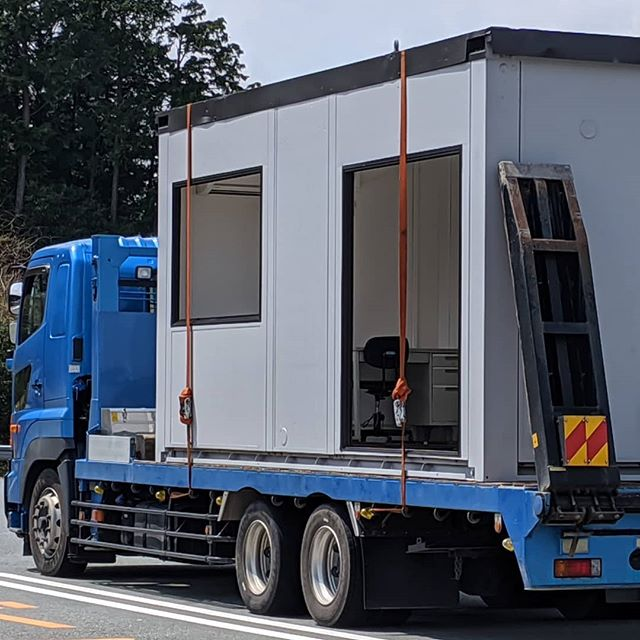tree: (1, 16, 238, 234)
truck: (22, 36, 640, 597)
